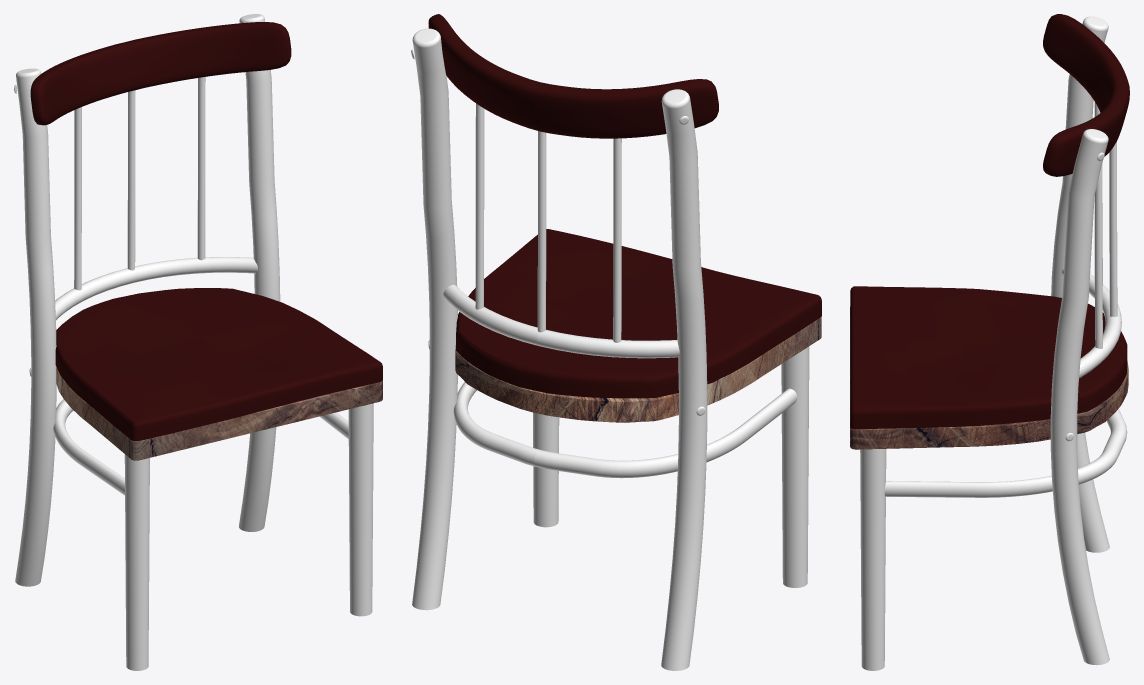
The model's file is chair.fbx.
3 renders of one model, left to right at view 1: azimuth 30°, elevation 25°; view 2: azimuth 150°, elevation 25°; view 3: azimuth 270°, elevation 25°, orthographic. The views are drawn at different scales.
Parts seen in each view (by area): view 1: chair:pCube12, chair:pCylinder21, chair:pCube10; view 2: chair:pCylinder21, chair:pCube12, chair:pCube10; view 3: chair:pCube12, chair:pCylinder21, chair:pCube10.
Part boxes in pixels (bbox=[...]): chair:pCube12: bbox=[30, 22, 382, 441]; chair:pCylinder21: bbox=[14, 14, 373, 670]; chair:pCube10: bbox=[56, 367, 382, 460]; chair:pCylinder21: bbox=[411, 28, 809, 670]; chair:pCube12: bbox=[428, 14, 821, 398]; chair:pCube10: bbox=[455, 317, 821, 422]; chair:pCube12: bbox=[850, 14, 1129, 429]; chair:pCylinder21: bbox=[860, 16, 1127, 670]; chair:pCube10: bbox=[850, 307, 1128, 449].
Size of the model in its own units: 1.72 by 3.32 by 1.57.
Materials: 3 (1 with a texture image).
